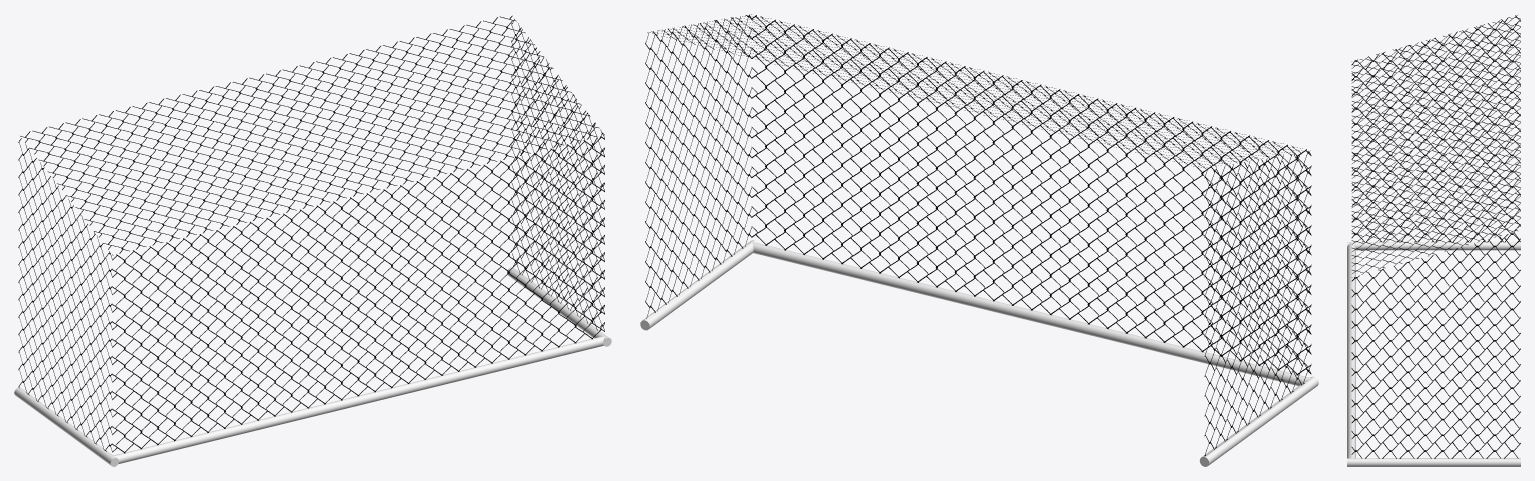
Rendered from Goal.fbx.
3 views of the same model, side by side, from view 1: azimuth 30°, elevation 25°; view 2: azimuth 150°, elevation 25°; view 3: azimuth 270°, elevation 25° (orthographic). The views are drawn at different scales.
Parts seen in each view (by area): view 1: Goal; view 2: Goal; view 3: Goal.
Part boxes in pixels (box(x1,y1,x2,y2)): Goal: box(14, 15, 611, 466); Goal: box(640, 14, 1318, 466); Goal: box(1347, 15, 1520, 466).
Size of the model in its own units: 3000 by 1500 by 1000.
